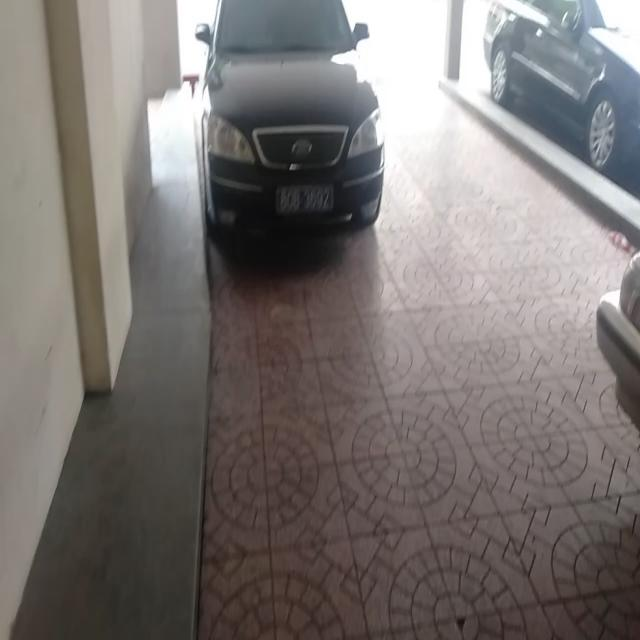bien_xanh: (278, 182, 334, 215)
